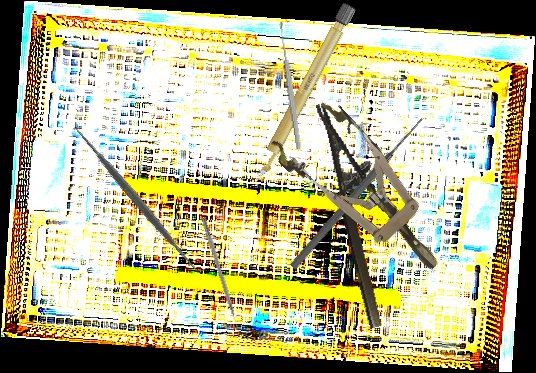Hook Surgical: (200, 216, 242, 336)
Needle Holder: (315, 94, 413, 330)
Pusher: (288, 114, 427, 272)
Scalpel Handle: (251, 1, 357, 181)
Spatula Surgical: (67, 119, 208, 281)
Speculum: (265, 91, 465, 296)
Surgical Spoon: (277, 20, 303, 151)
